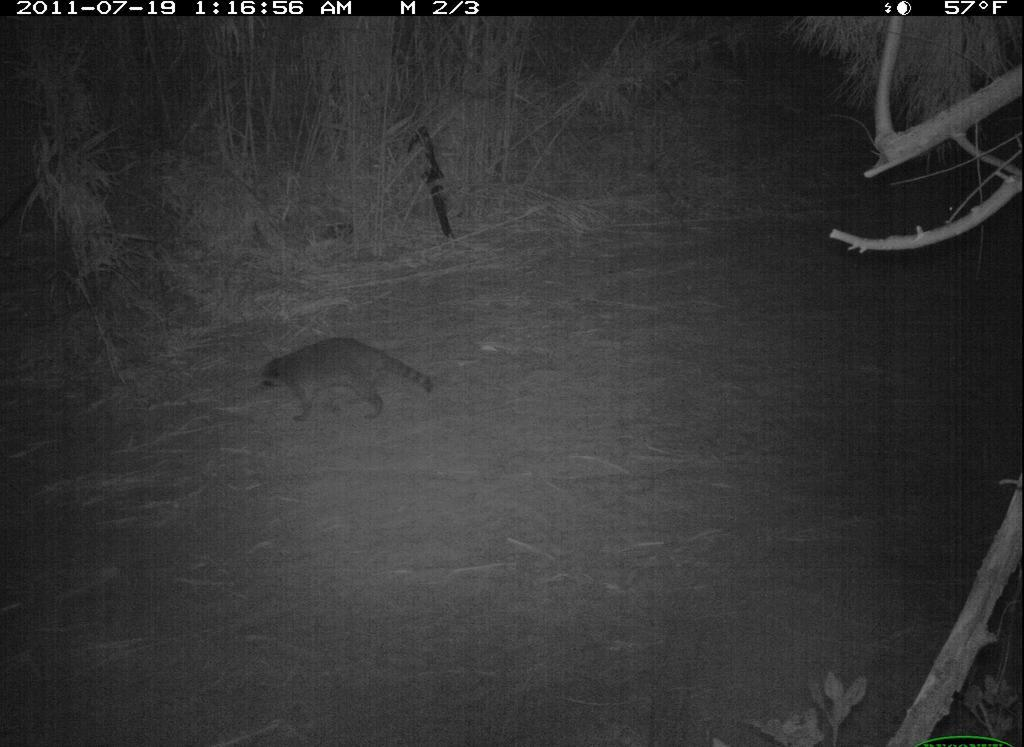raccoon: (251, 329, 447, 431)
